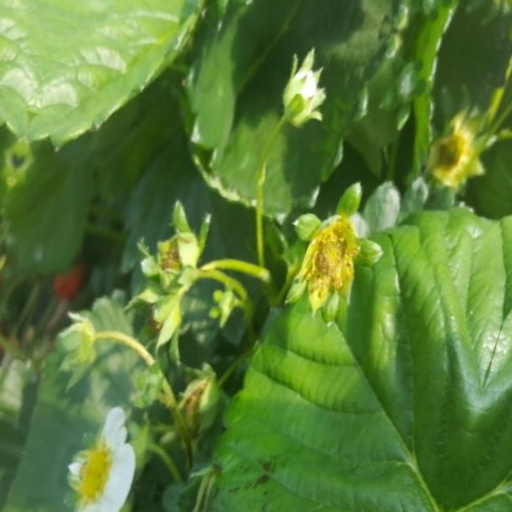Blossom Blight: (301, 192, 358, 281)
